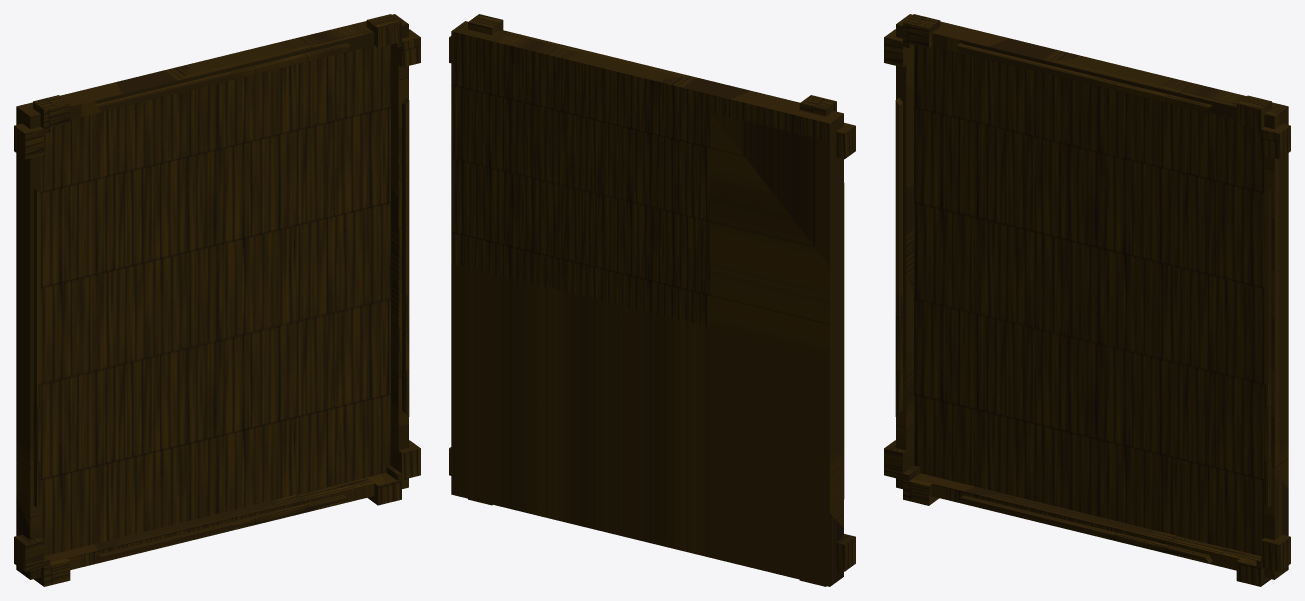
The model's file is Picture_Frame2.fbx.
3 views of the same model, side by side, from view 1: azimuth 30°, elevation 25°; view 2: azimuth 150°, elevation 25°; view 3: azimuth 330°, elevation 25° (orthographic).
Parts seen in each view (by area): view 1: pCube25; view 2: pCube25; view 3: pCube25.
Part boxes in pixels (left/top/right/bottom): pCube25: left=14, top=14, right=420, bottom=586; pCube25: left=449, top=14, right=855, bottom=586; pCube25: left=884, top=14, right=1290, bottom=586.
Bounding box in the file's own units: 619 × 713 × 47.29.
Materials: 1 (1 with a texture image).
